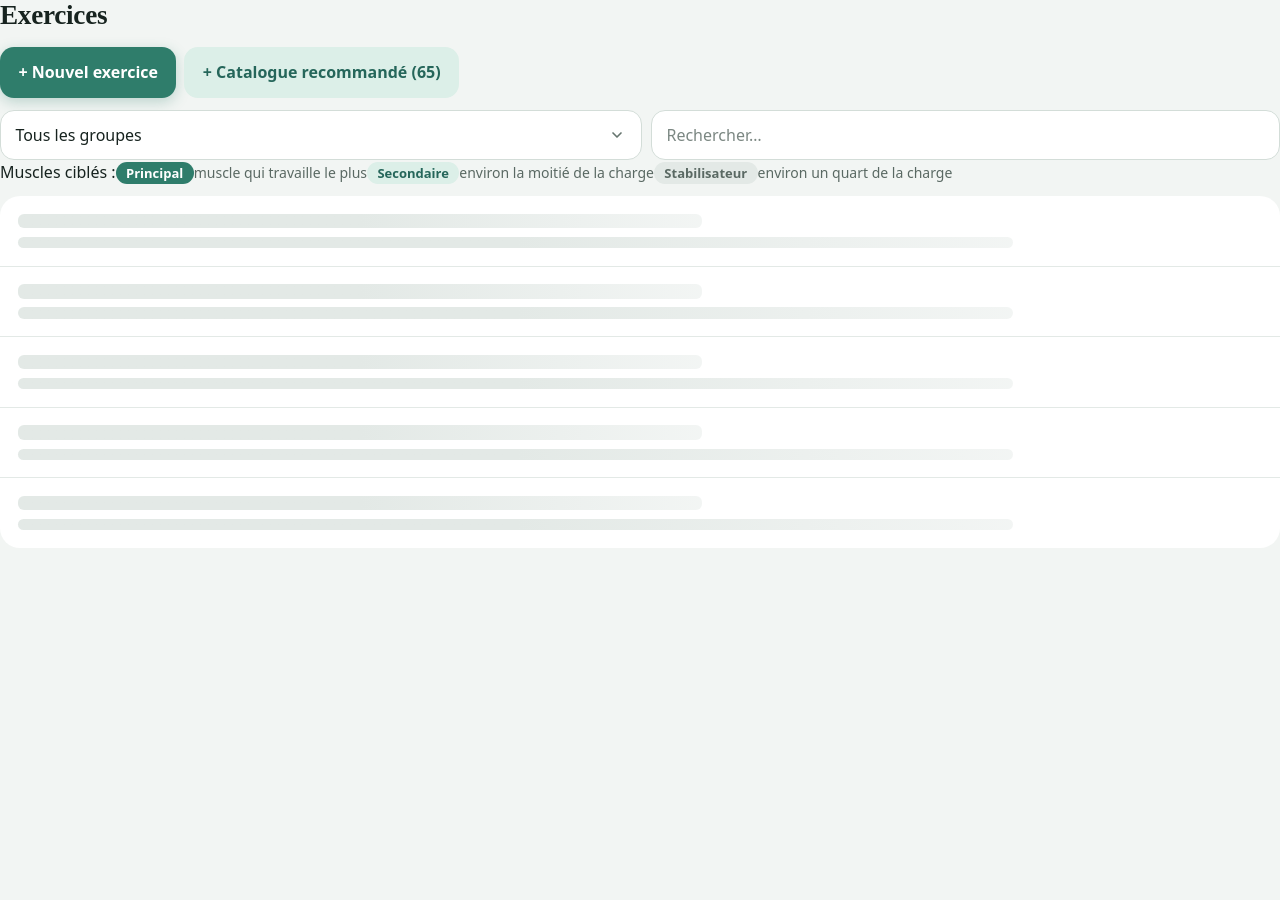
it: [REG-02] Bibliotheque.tsx - Modale catalogue et échec partiel › appelle charger() en cas d’échec partiel afin d’actualiser manquants et éviter les doublons
The image size is (1280, 900).
Click the button "+ Catalogue recommandé (65)": click(322, 72) x1=184 y1=47 x2=459 y2=98
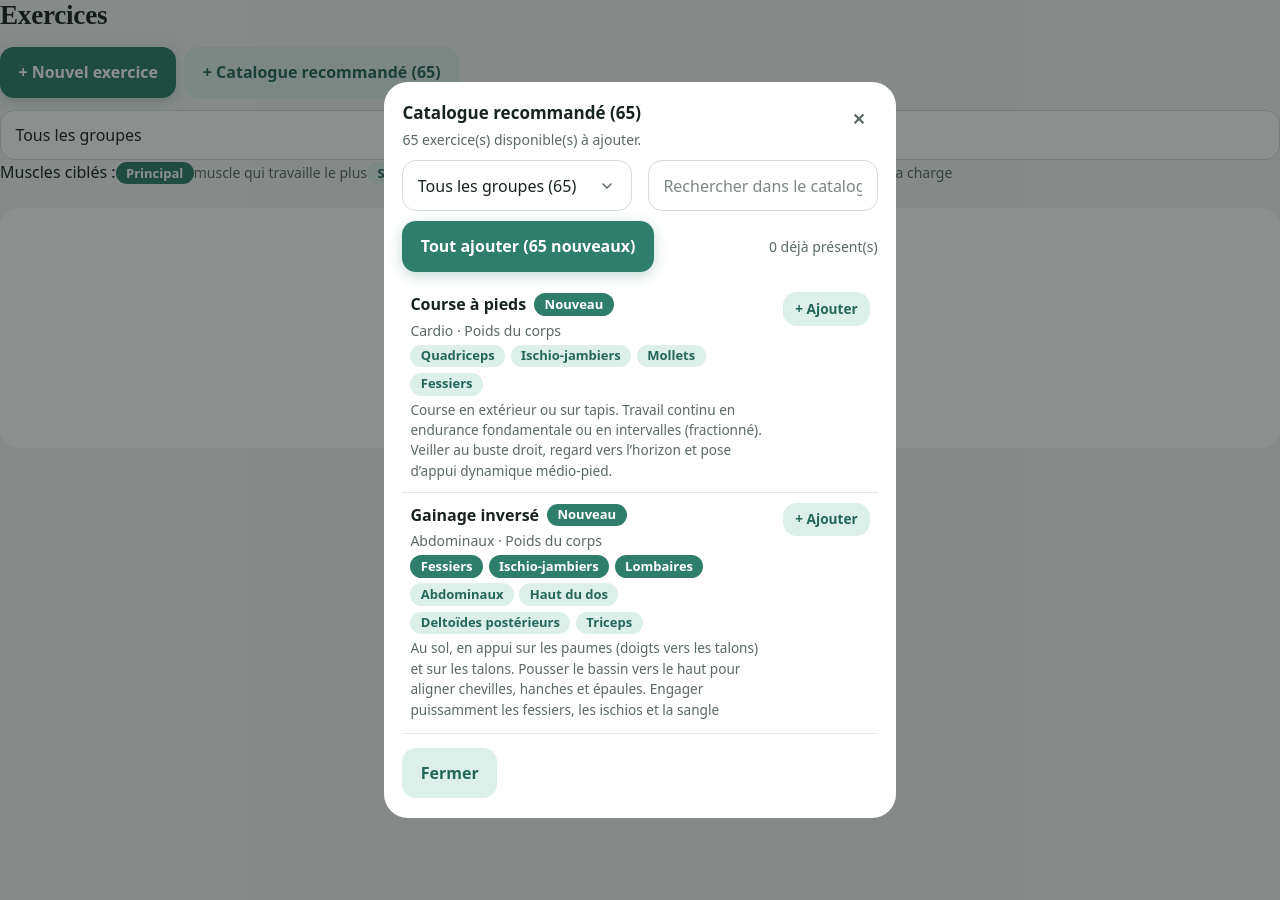
Expected: the dialog is shown, x1=384 y1=82 x2=896 y2=818
Cliquer sur "Tout ajouter (...)"
Click the button "Tout ajouter (65 nouveaux)": click(528, 246) x1=402 y1=221 x2=654 y2=272
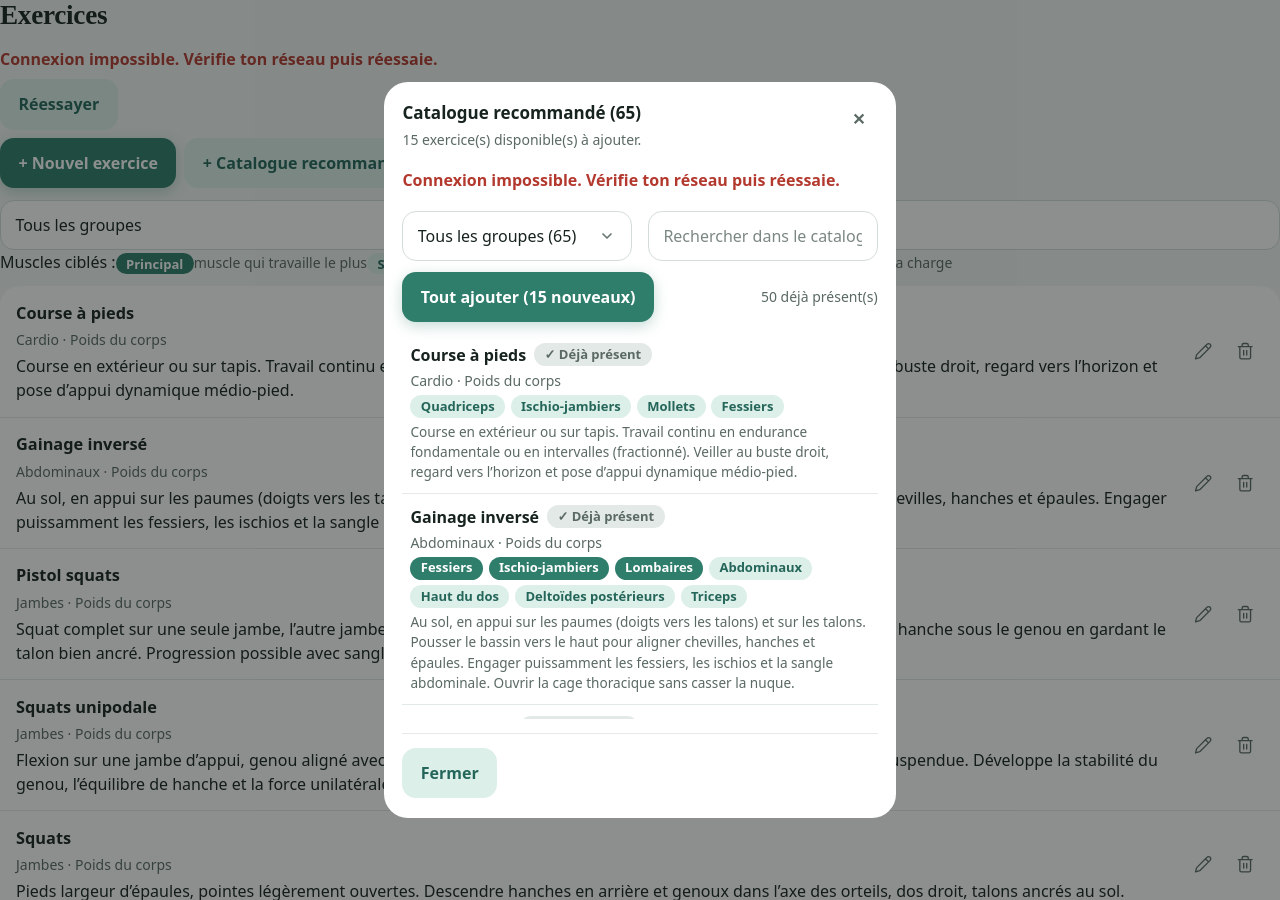
Expected: the dialog is shown, x1=384 y1=82 x2=896 y2=818
Expected: the message "Connexion impossible. Vérifie ton réseau puis réessaie." is shown, x1=402 y1=168 x2=878 y2=192
Expected: the button "Tout ajouter (15 nouveaux)" is shown, x1=402 y1=272 x2=654 y2=322
